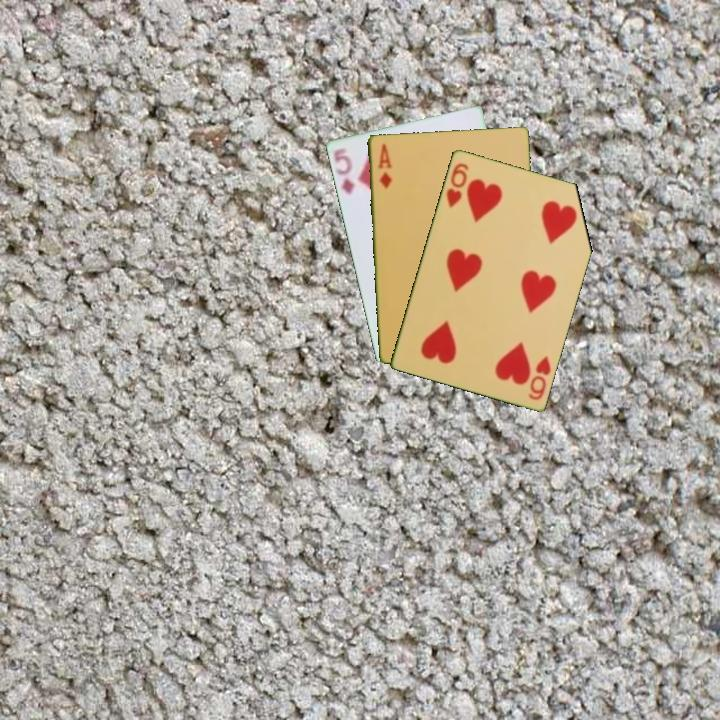5d: (330, 144, 357, 198)
6h: (524, 352, 554, 403), (442, 159, 471, 210)
Ad: (373, 140, 394, 192)
